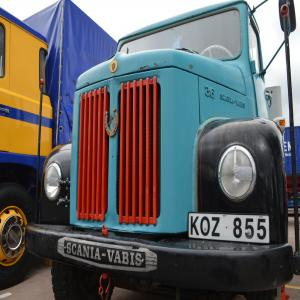Vehicle-registration-plate: (180, 215, 258, 255)
